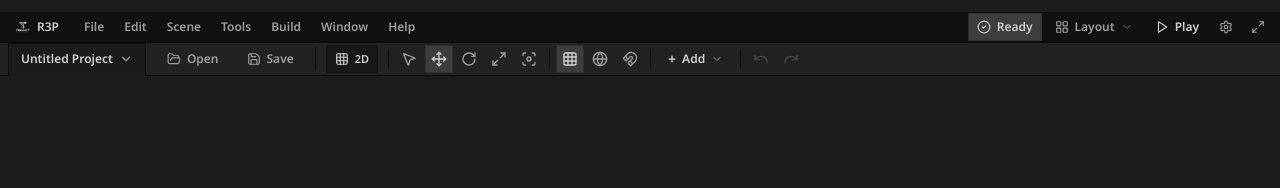
Test case: EditorHeader layout selector › uses the locked viewport kind for Scene creation entries
Step 1. Click the button "Scene" → (184, 26), box x1=157 y1=12 x2=211 y2=41
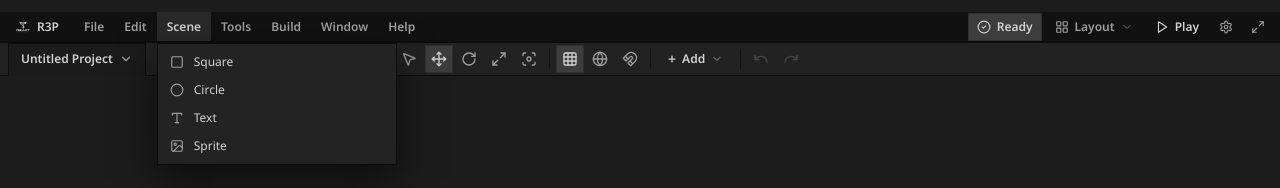
Check: the button "Square" is shown, box x1=158 y1=48 x2=396 y2=76
